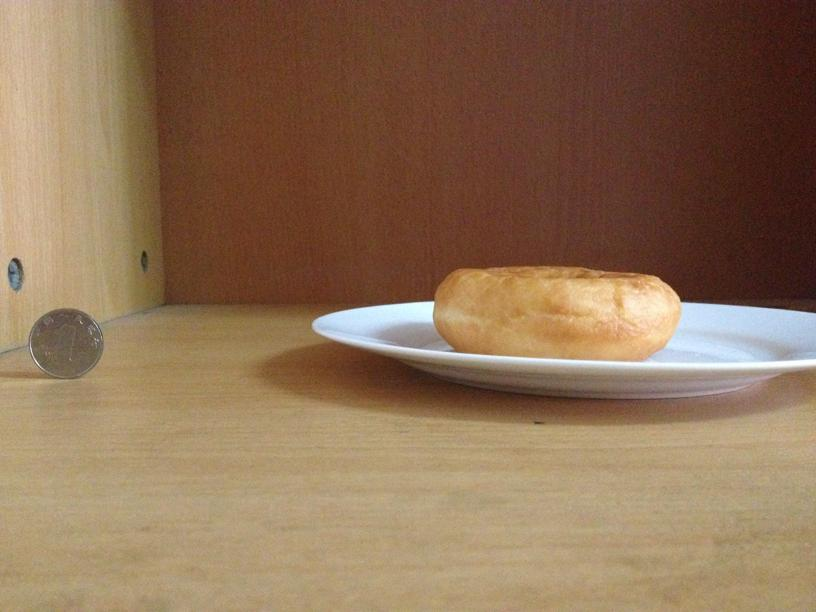coin: (25, 306, 104, 377)
doughnut: (429, 265, 681, 360)
